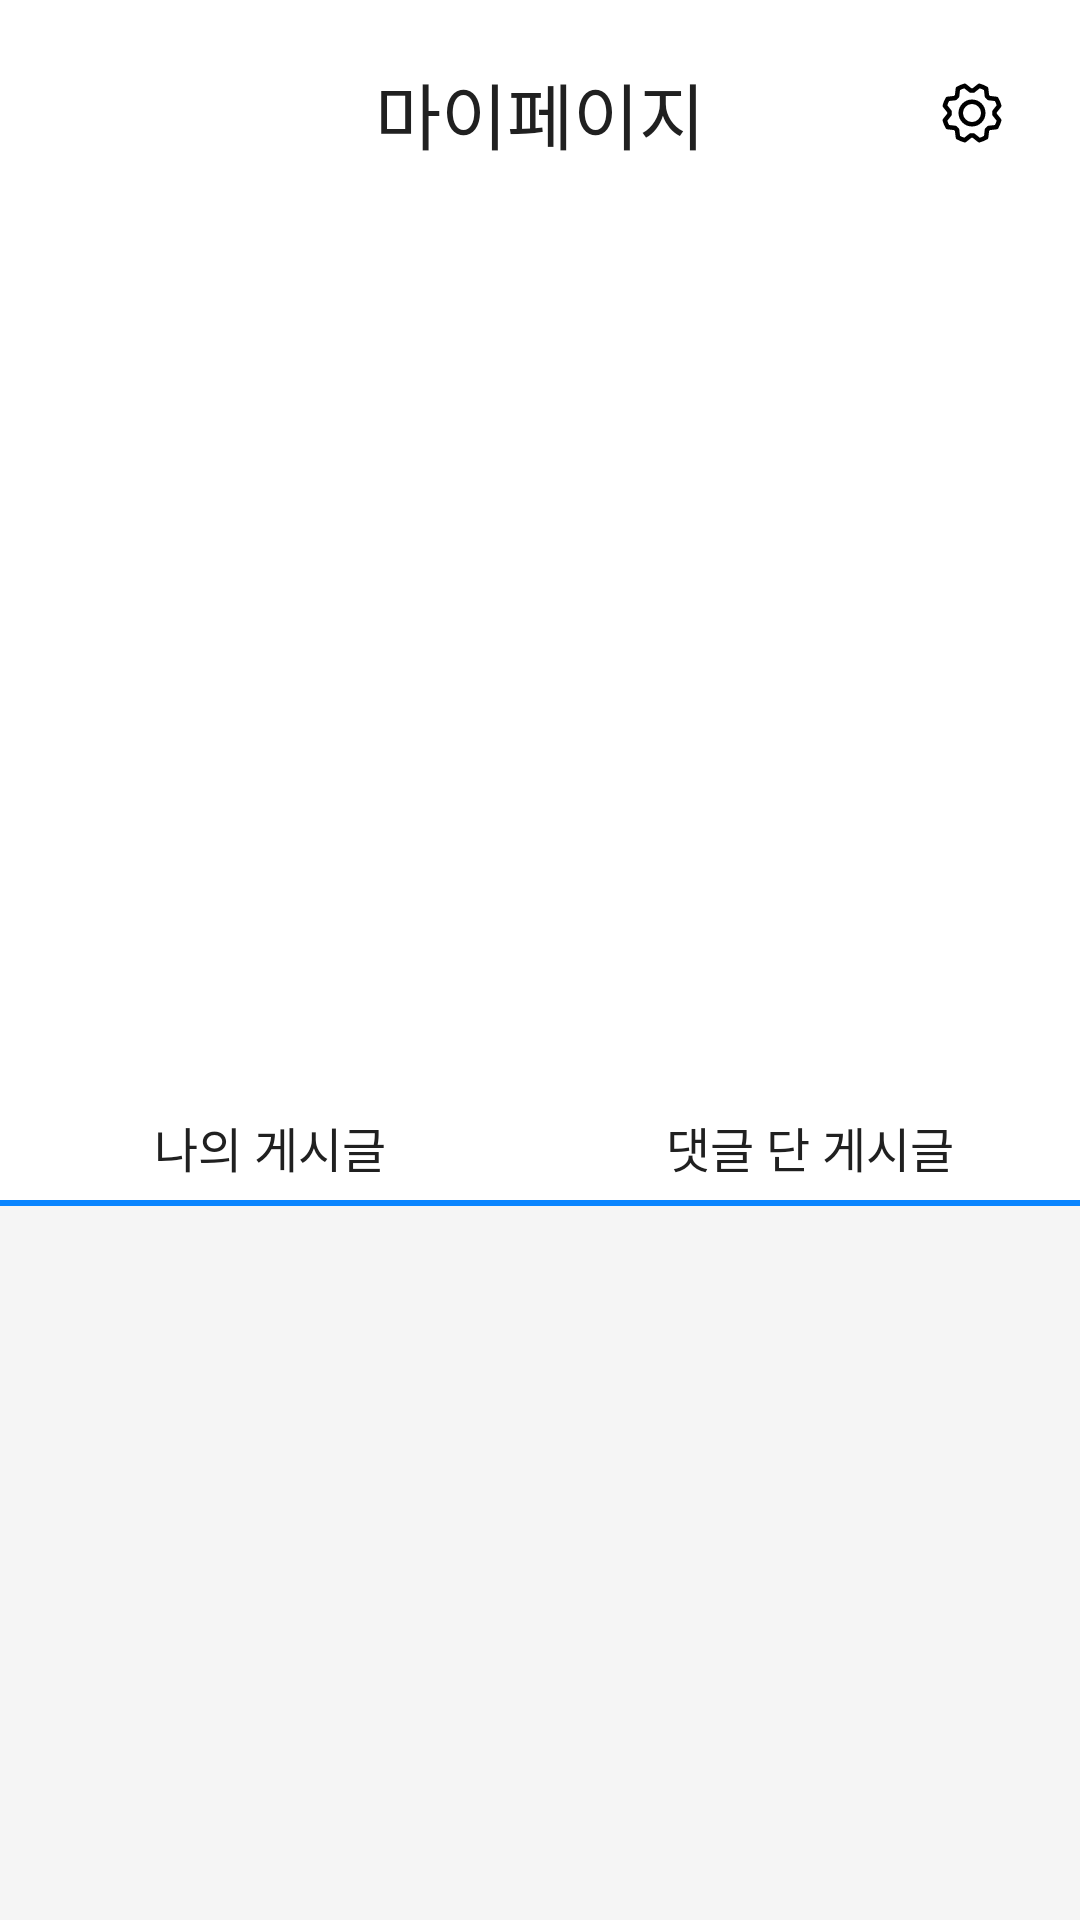

Named icons in this screenshot (1080x1920) and their centers, [x,y]:
gear: [972,113]
